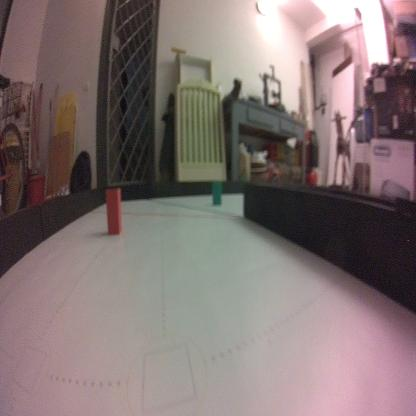green: (211, 179, 222, 208)
red: (105, 188, 123, 236)
